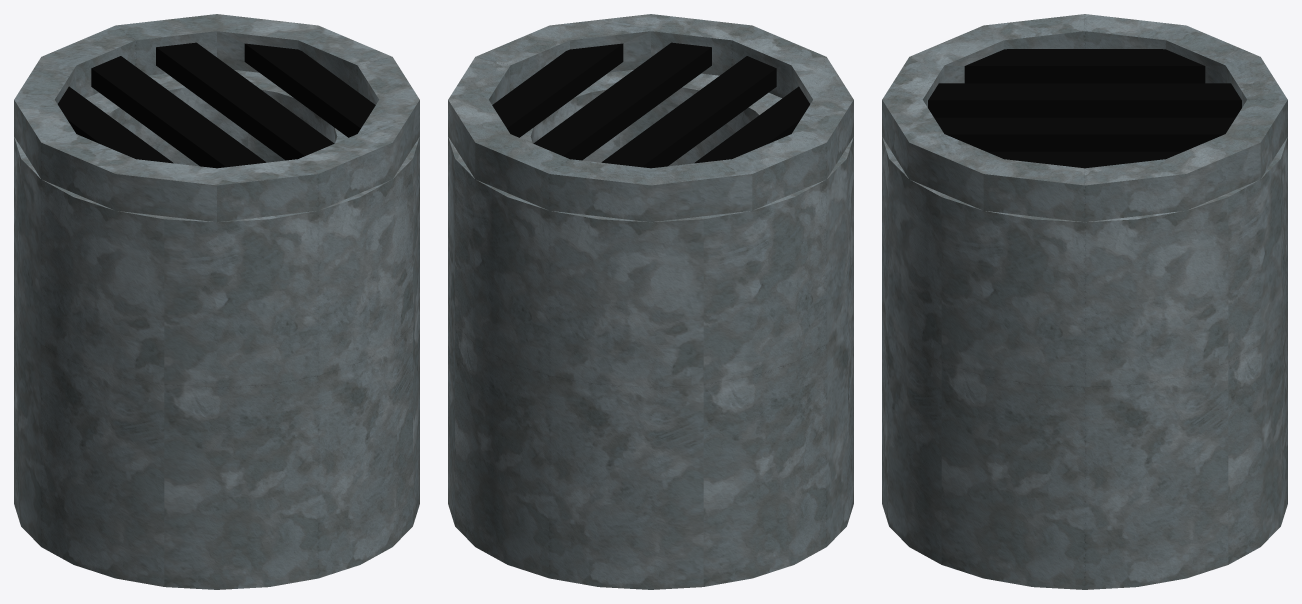
Rendered from LifeSupport.fbx.
3 views of the same model, side by side, from view 1: azimuth 30°, elevation 25°; view 2: azimuth 150°, elevation 25°; view 3: azimuth 270°, elevation 25° (orthographic).
Parts seen in each view (by area): view 1: mergedBlocks; view 2: mergedBlocks; view 3: mergedBlocks.
Boxes of the visible parts, box(x1,y1,x2,y2) form: mergedBlocks: box(14, 14, 419, 589); mergedBlocks: box(448, 14, 853, 589); mergedBlocks: box(882, 14, 1287, 589).
Size of the model in its own units: 10 by 11 by 10.
